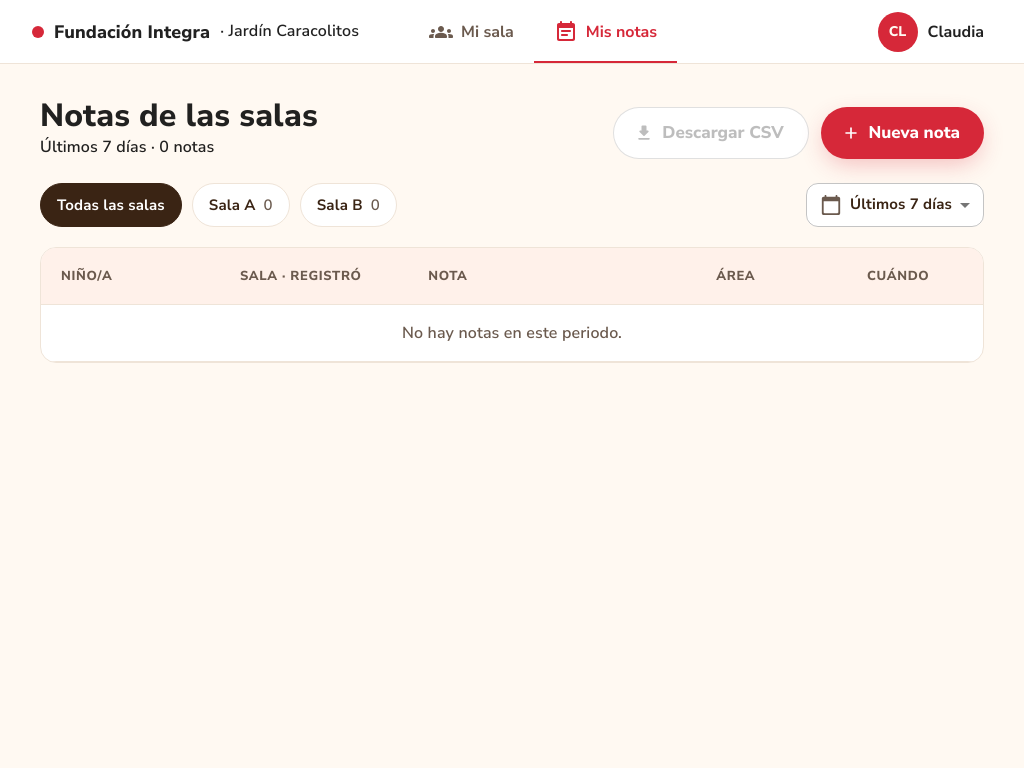
Panel de escritorio › Escape con texto escrito pide confirmar y no cierra si se sigue
Click the button "Nueva nota": (902, 133) [820,107,984,159]
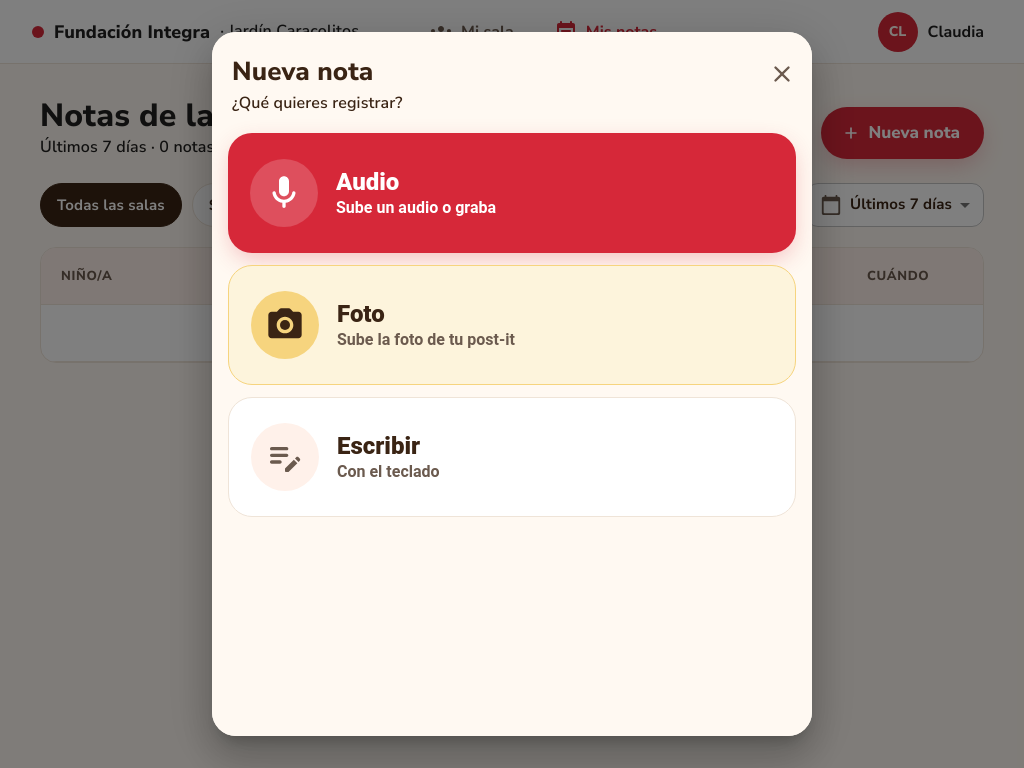
Click the button "Escribir Con el teclado": (285, 457) [228,397,796,517]
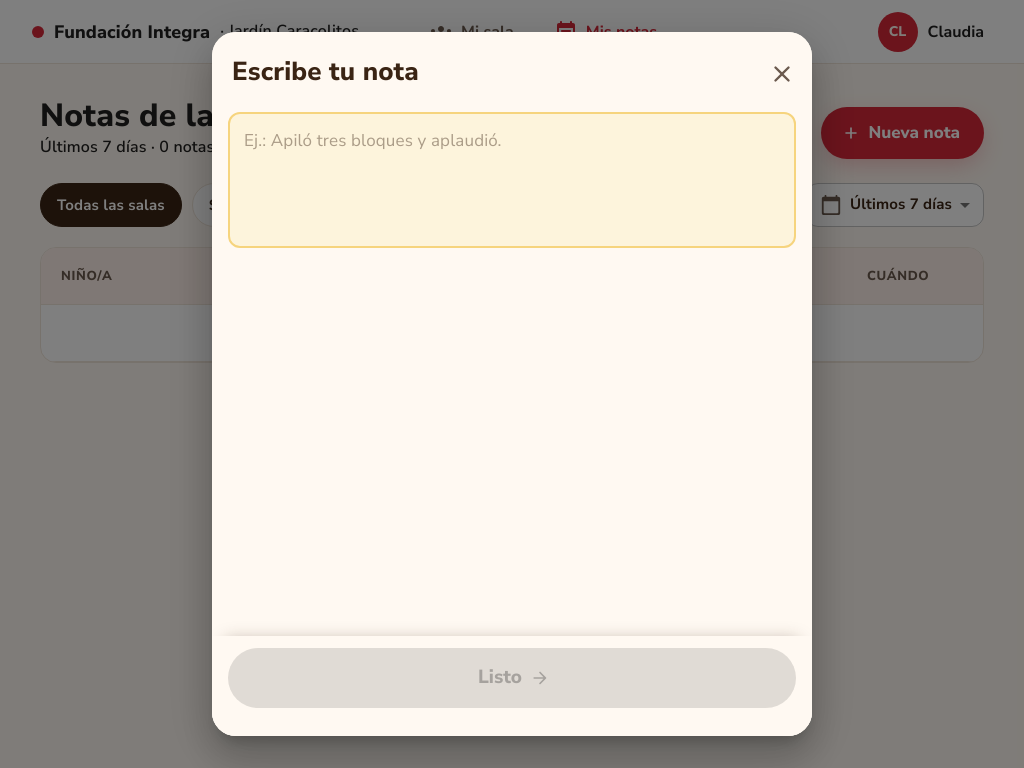
In the text box named "Texto de la nota": (512, 180) [244,128,780,232], type "Apiló cinco bloques."
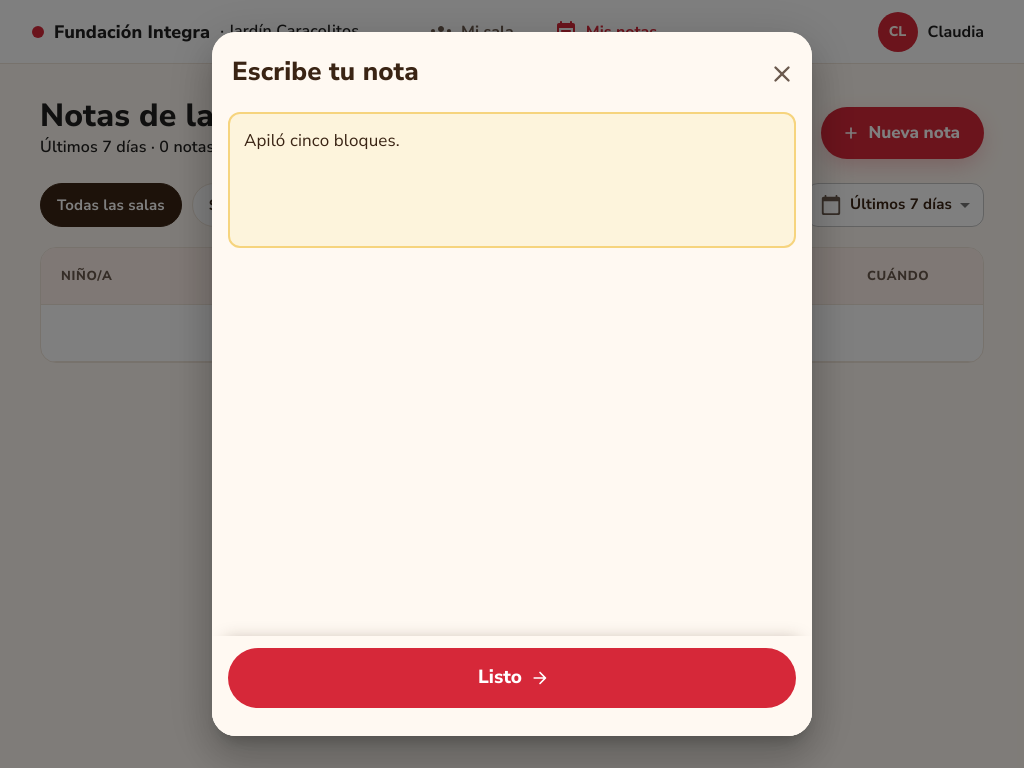
Press Escape in the dialog named "Nueva nota", box [212,32,812,736]
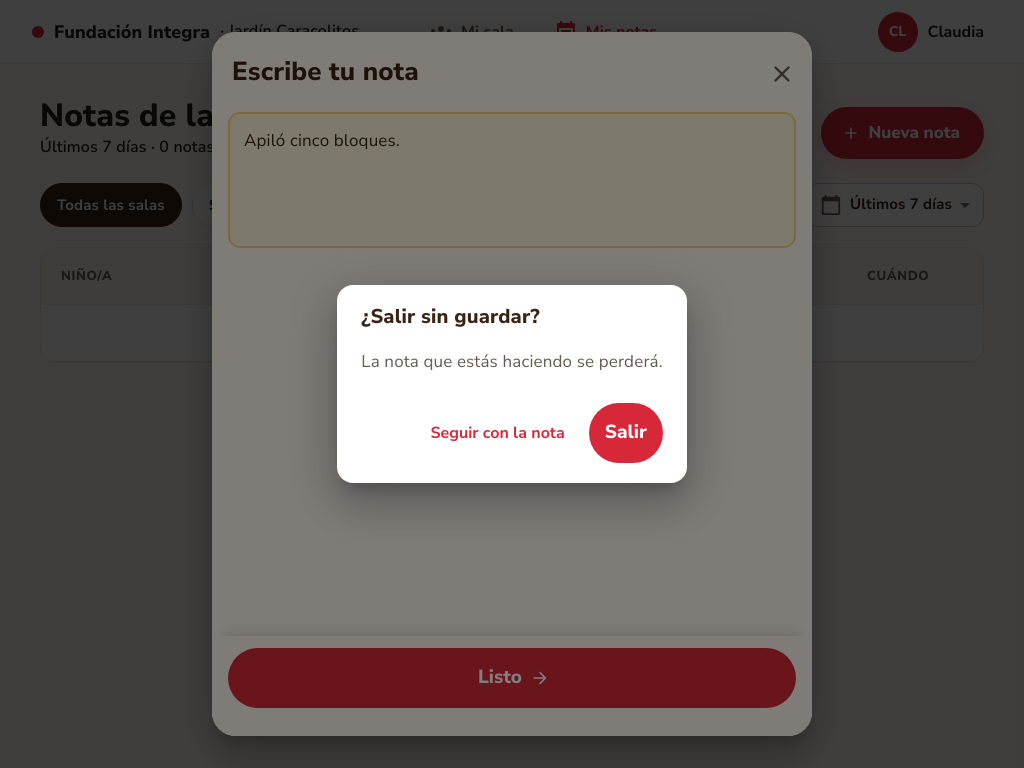
Click the button "Seguir con la nota": (498, 433) [422,409,573,457]
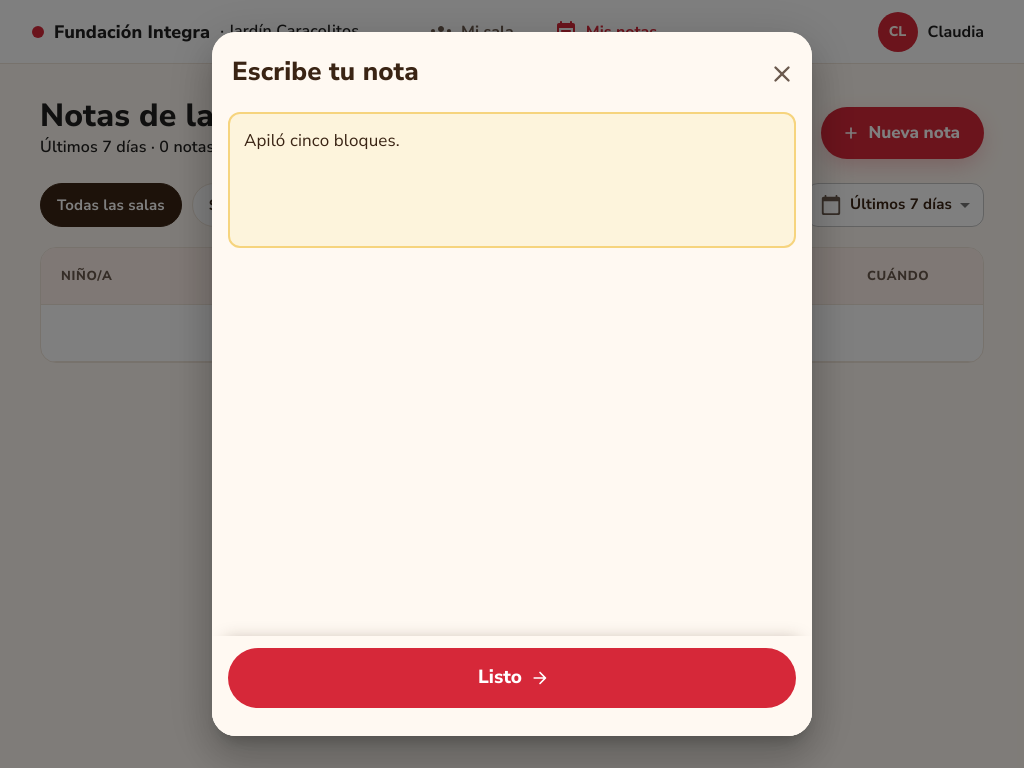
Result: the heading "¿Salir sin guardar?" is gone
